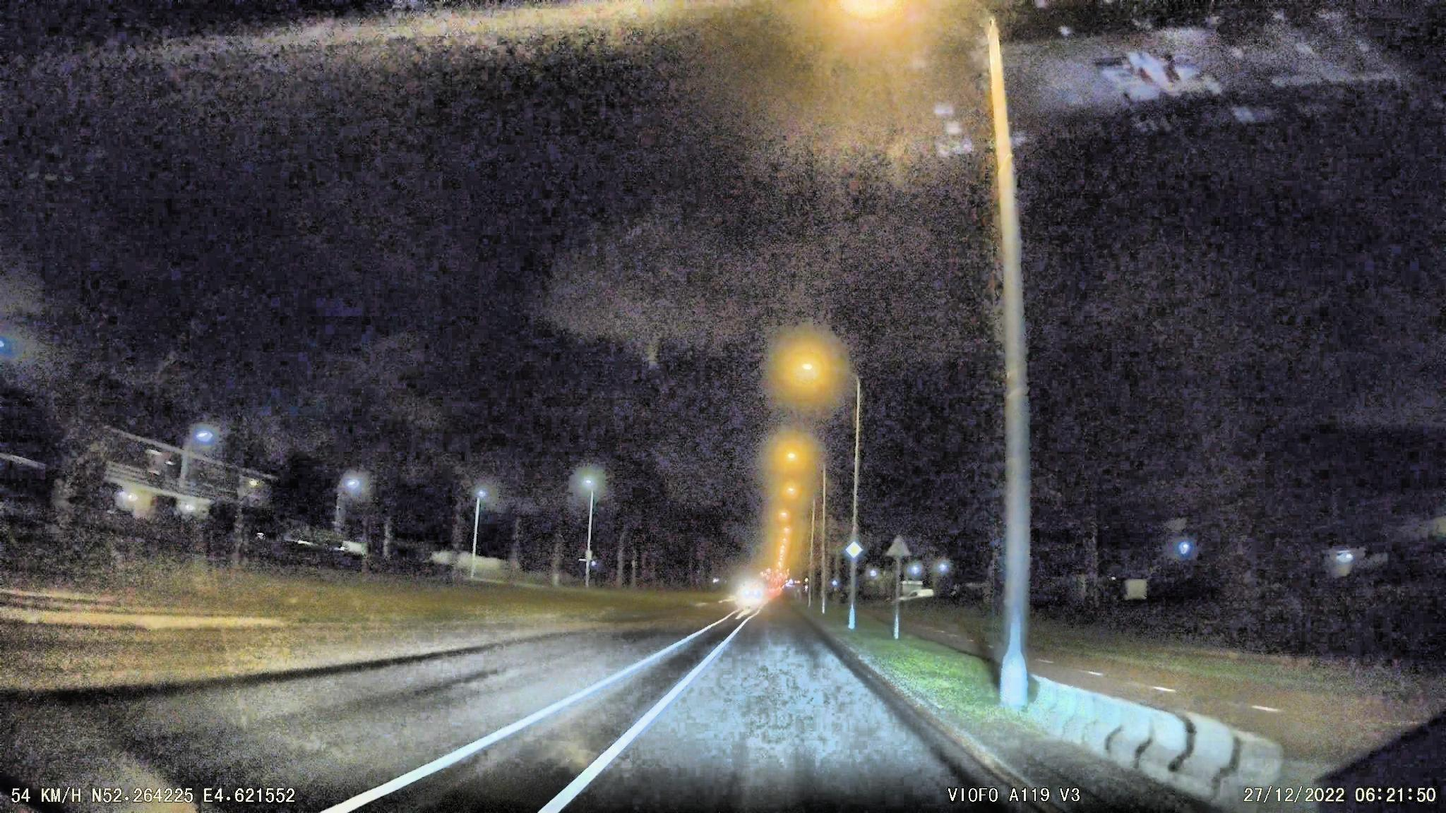Roads: (0, 606, 979, 813)
